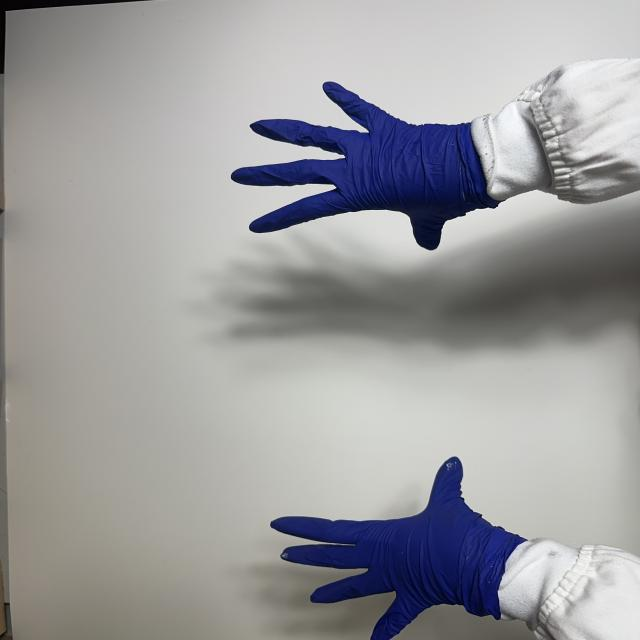gloves_contaminated: (272, 458, 522, 640), (232, 83, 497, 250)
